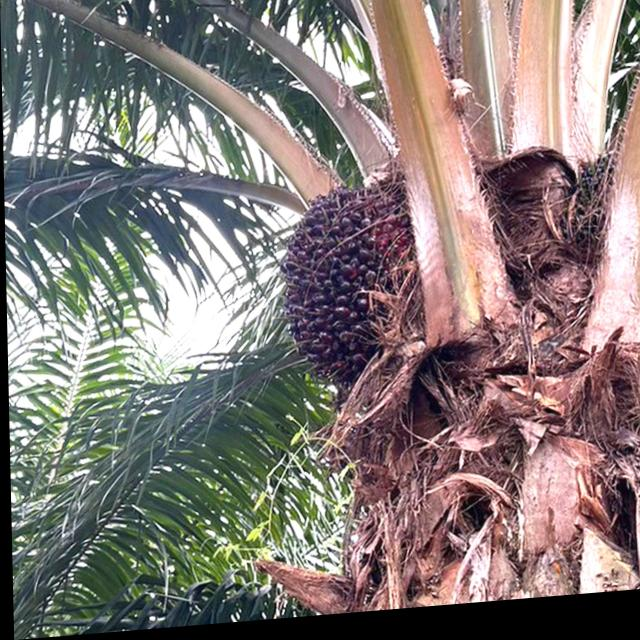ripe: (277, 182, 413, 384)
